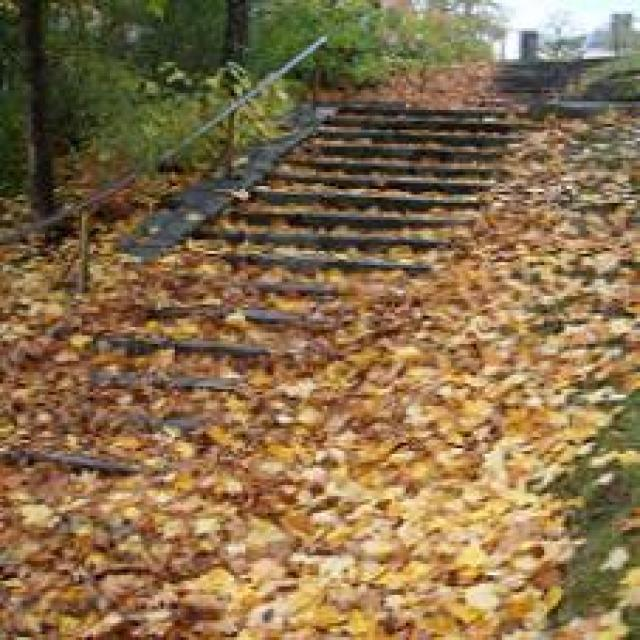stair: (20, 211, 268, 485)
